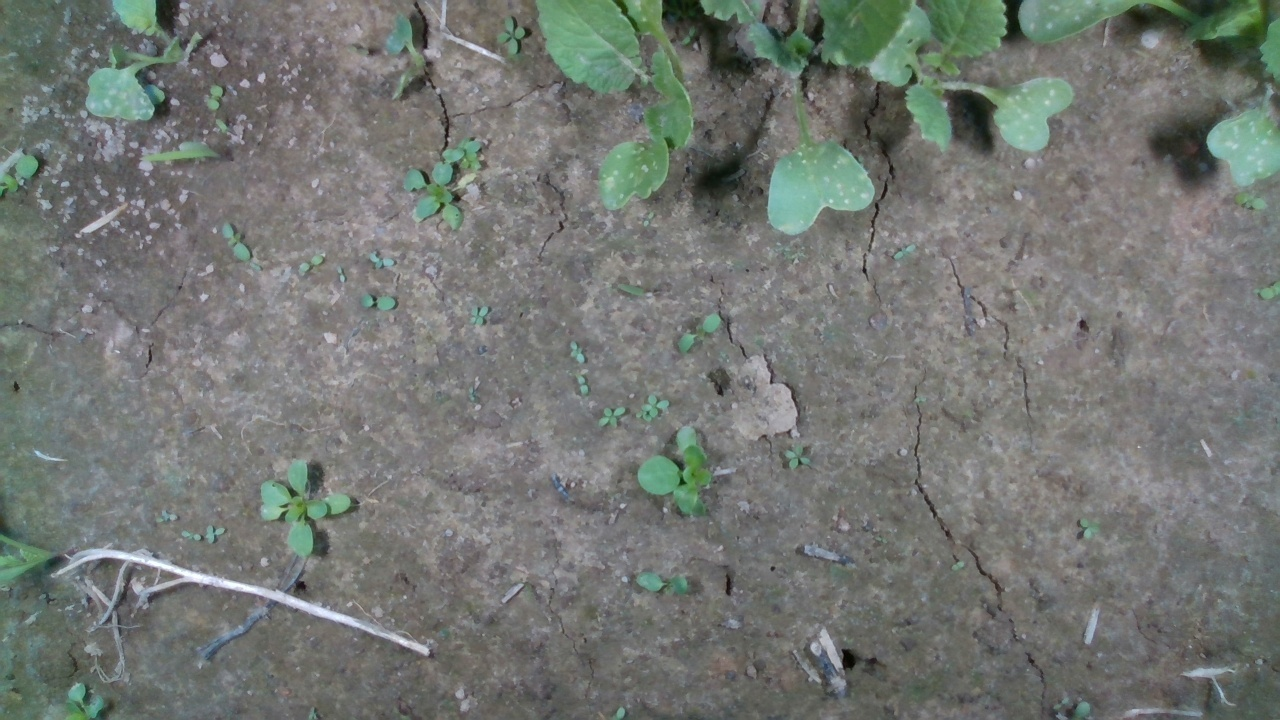weed: (675, 312, 723, 355), (634, 568, 689, 596), (494, 14, 528, 55), (220, 221, 251, 262), (779, 442, 814, 470), (1233, 189, 1270, 214), (356, 291, 399, 312), (597, 404, 629, 430), (464, 303, 490, 329), (566, 340, 589, 368), (367, 250, 396, 271), (1077, 518, 1102, 542), (204, 82, 224, 111), (203, 522, 226, 547), (297, 253, 324, 272), (576, 373, 592, 398), (179, 530, 202, 542), (335, 263, 348, 284), (947, 559, 965, 571)
